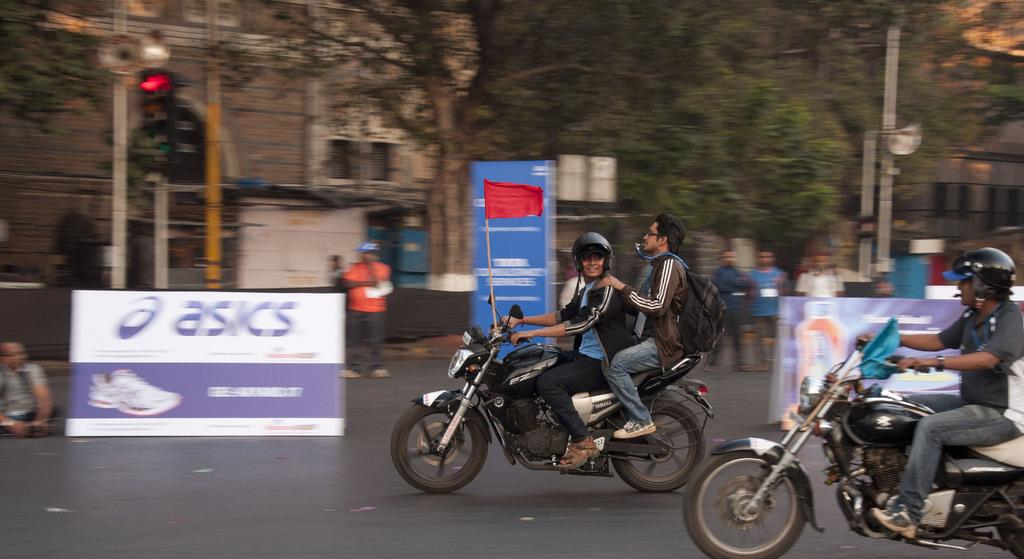helmet: (951, 246, 1017, 305), (571, 231, 613, 276)
nohelmet: (642, 212, 687, 257), (0, 341, 28, 371), (353, 241, 380, 265), (810, 250, 832, 272), (755, 246, 776, 268), (719, 248, 738, 268)
